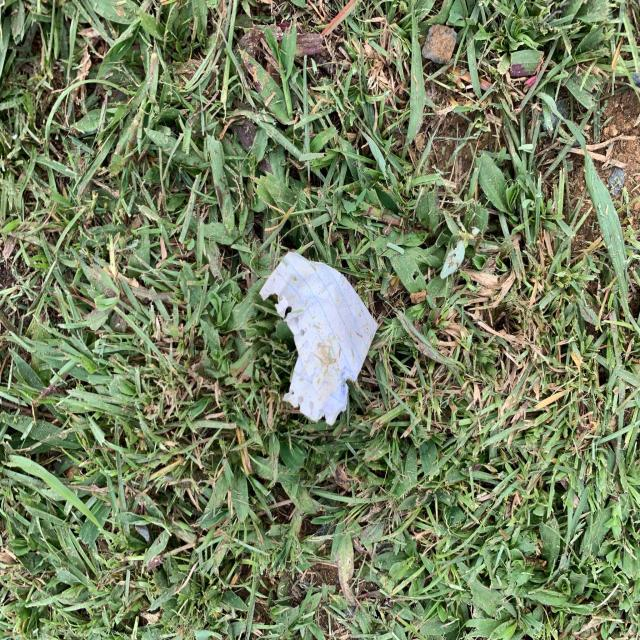litter: (262, 251, 381, 422)
